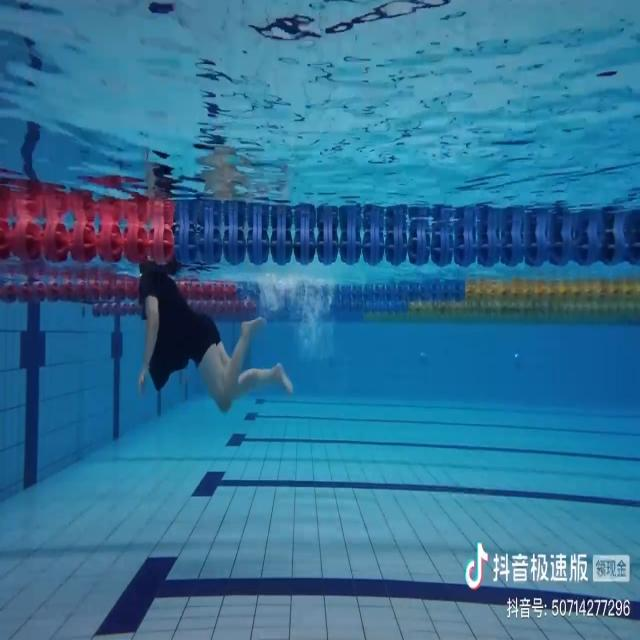Swimming: (137, 266, 293, 420)
